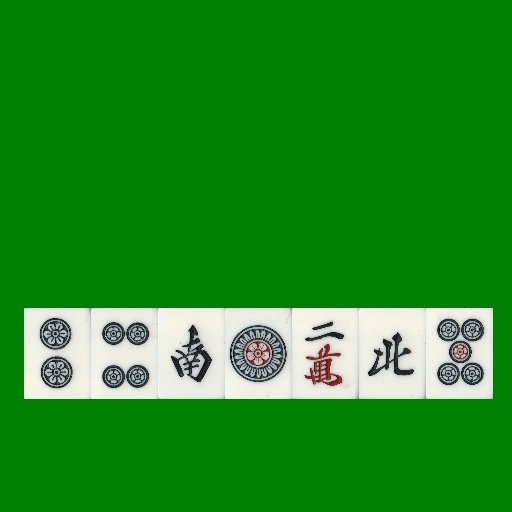1p: (225, 308, 292, 399)
2m: (292, 308, 359, 399)
2p: (24, 308, 91, 399)
4p: (91, 308, 158, 399)
5p: (426, 308, 493, 399)
north: (359, 308, 426, 399)
south: (158, 308, 225, 399)
